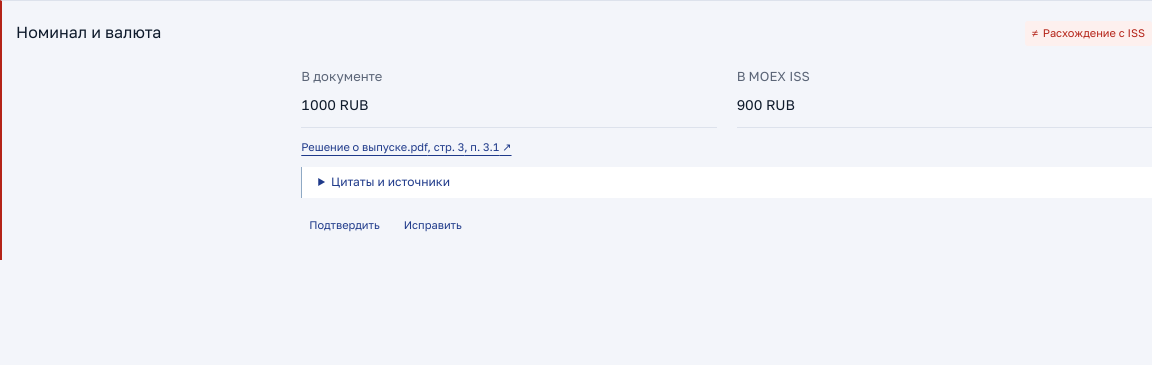
Test case: Поле карточки › показывает обе суммы и привязку цитаты при mismatch
Expected: the text "1000 RUB" is shown, left=301, top=96, right=368, bottom=113
Expected: the text "900 RUB" is shown, left=737, top=96, right=795, bottom=113
Click the heading "Цитаты и источники" at (391, 182), box left=331, top=174, right=450, bottom=189
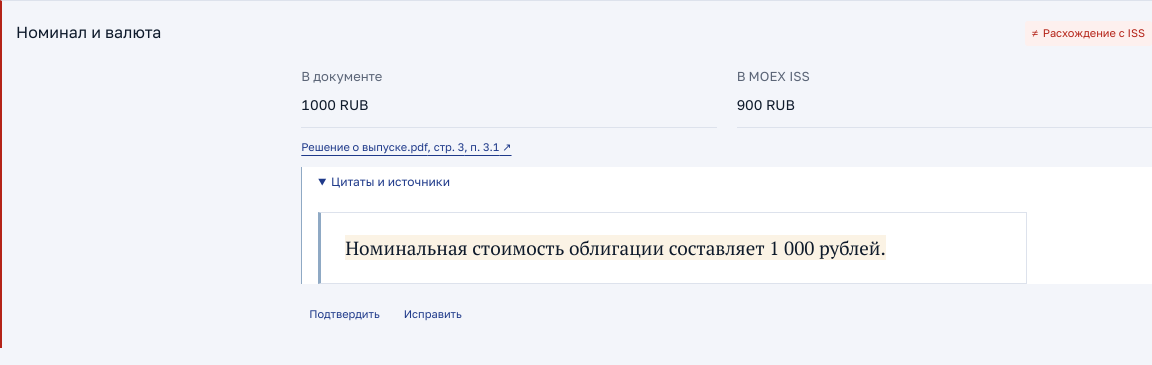
Expected: the text "Номинальная стоимость облигации составляет 1 000 рублей." is shown, left=345, top=235, right=886, bottom=260
